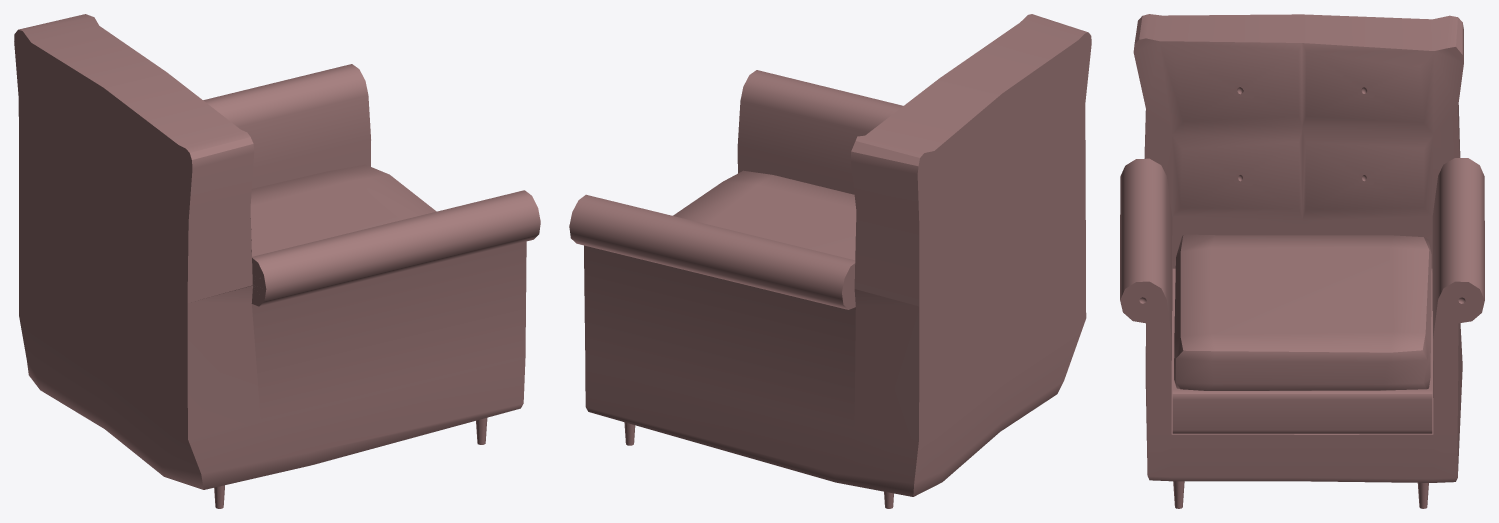
The model's file is sillon chico.fbx.
3 views of the same model, side by side, from view 1: azimuth 30°, elevation 25°; view 2: azimuth 150°, elevation 25°; view 3: azimuth 270°, elevation 25° (orthographic). The views are drawn at different scales.
Visible parts, largest first — view 1: polySurface27; view 2: polySurface27; view 3: polySurface27.
Boxes of the visible parts, x1,y1,x2,y2 form: polySurface27: (14, 14, 540, 508); polySurface27: (569, 14, 1091, 508); polySurface27: (1120, 14, 1484, 508).
Size of the model in its own units: 1.21 by 1.3 by 1.21.
